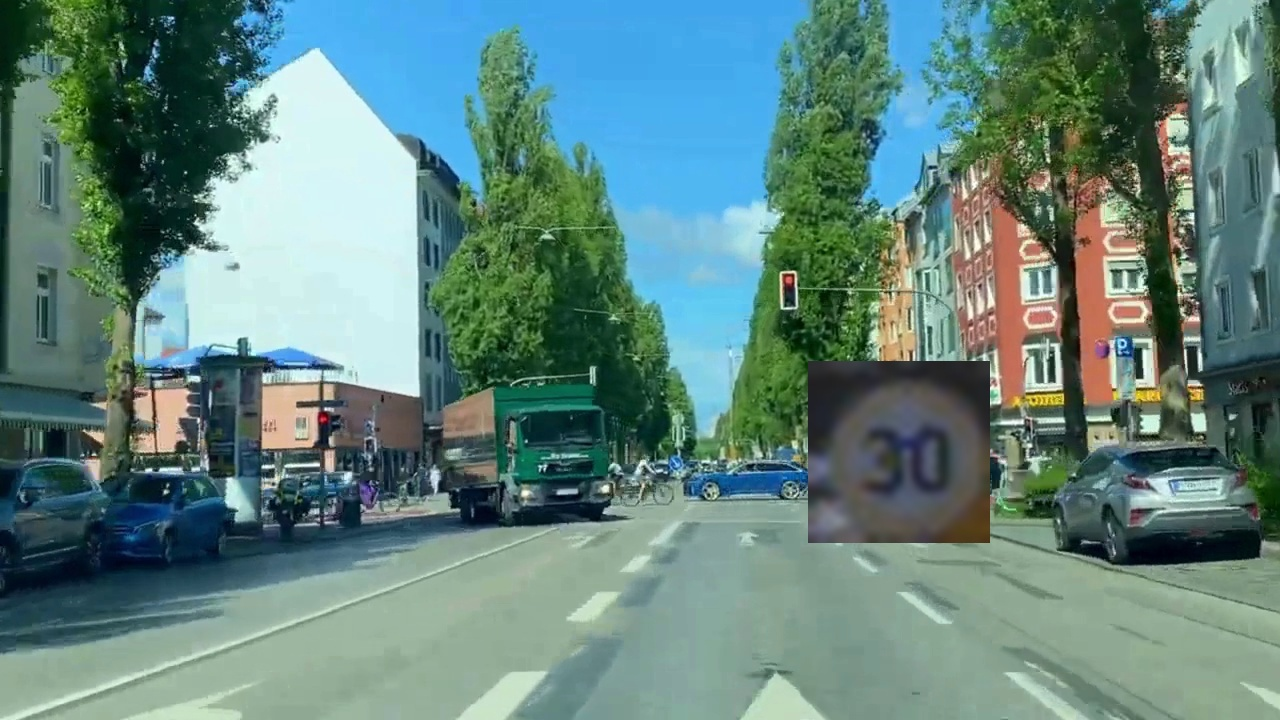Speed 30: (808, 361, 990, 543)
